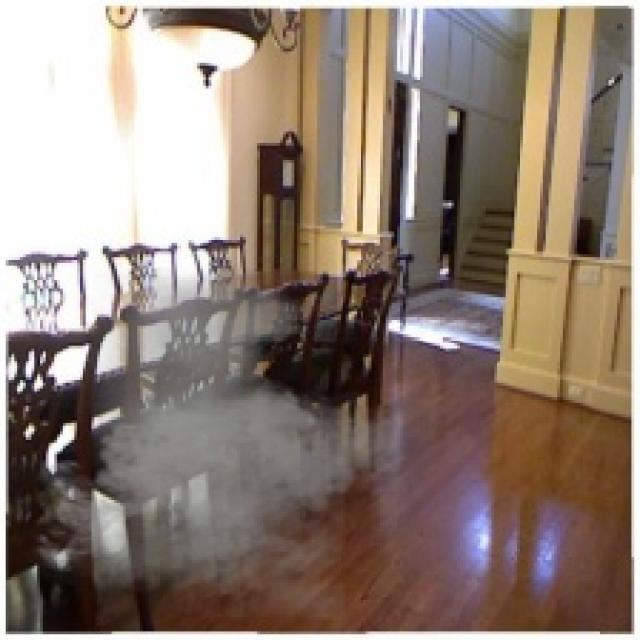smoke: (23, 266, 414, 620)
